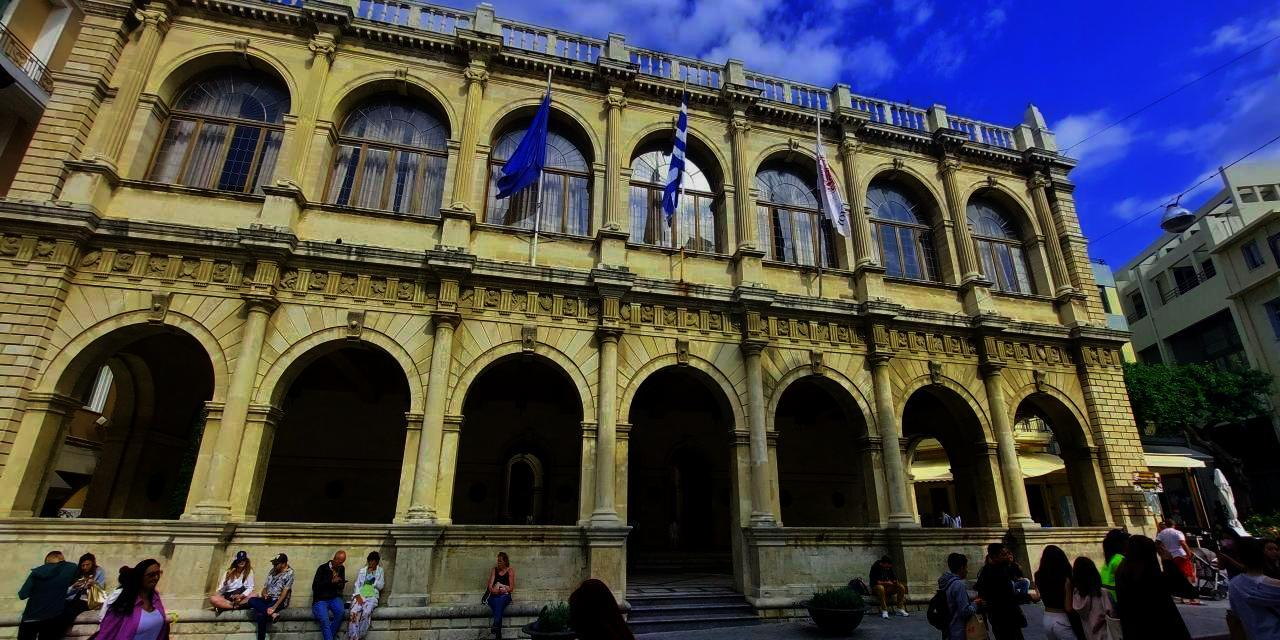Loggia: (1, 1, 1182, 640)
